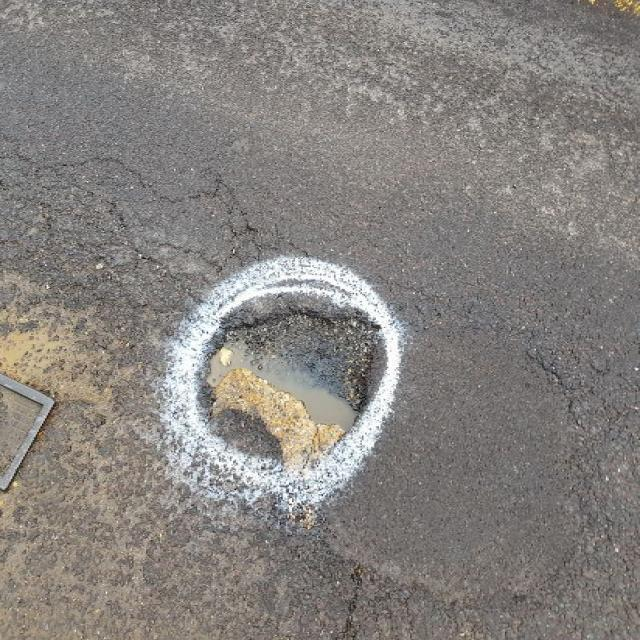pothole: (191, 300, 392, 473)
